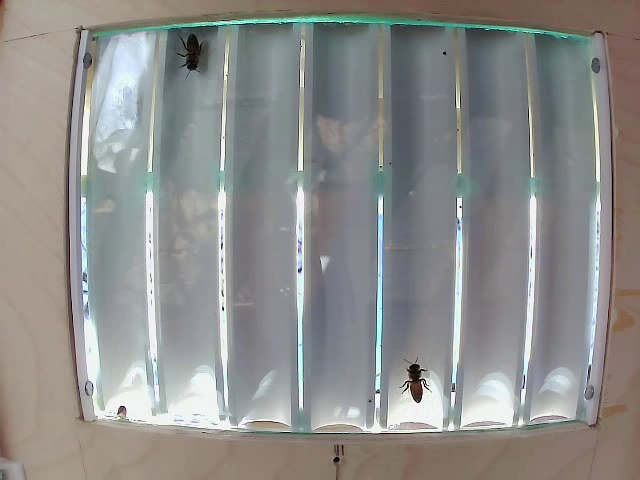bee: (399, 337, 437, 411), (173, 32, 222, 79)
